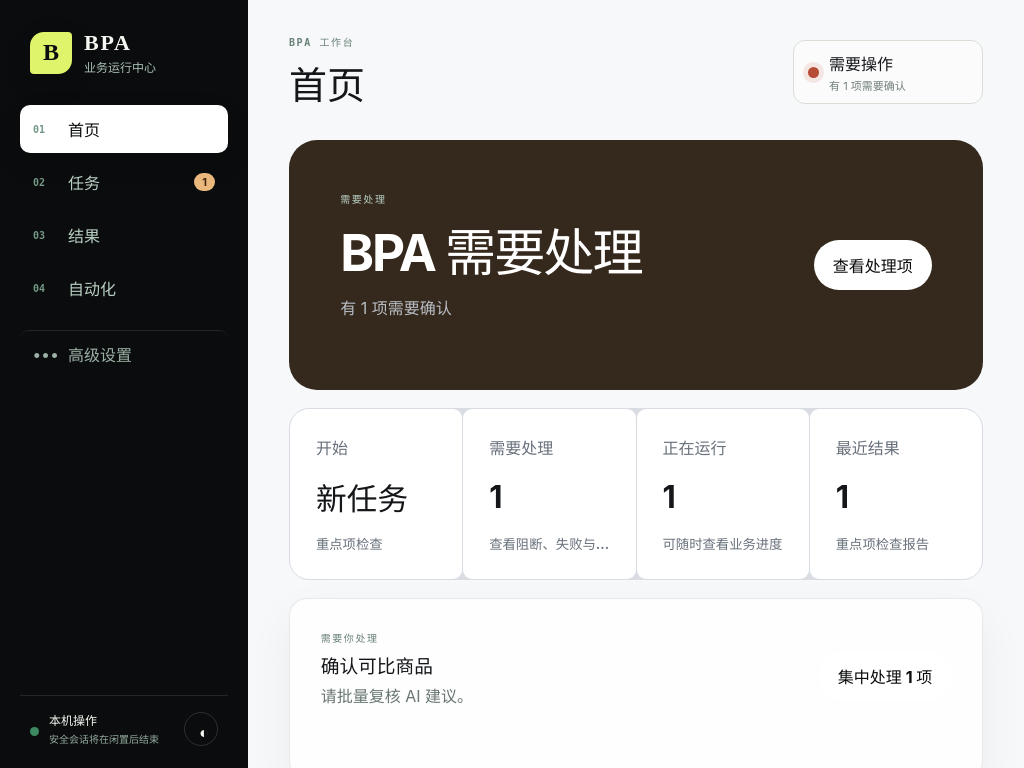
Test case: Operator Console › starts a workflow with an exact browser session binding
The width and height of the screenshot is (1024, 768).
Expected: the heading "BPA 需要处理" is shown, [340, 212, 642, 286]
Click the button "04 自动化" at (124, 288), box [20, 264, 228, 312]
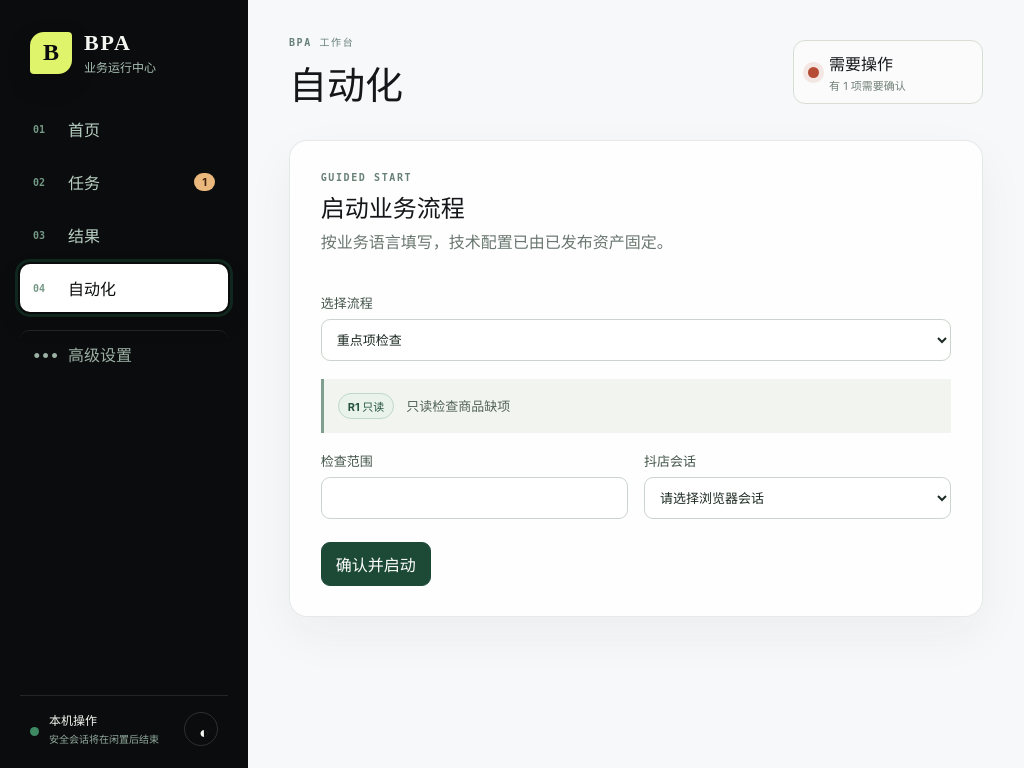
Type "全部在售商品" into the field labelled "检查范围" at (474, 498), box [321, 477, 628, 519]
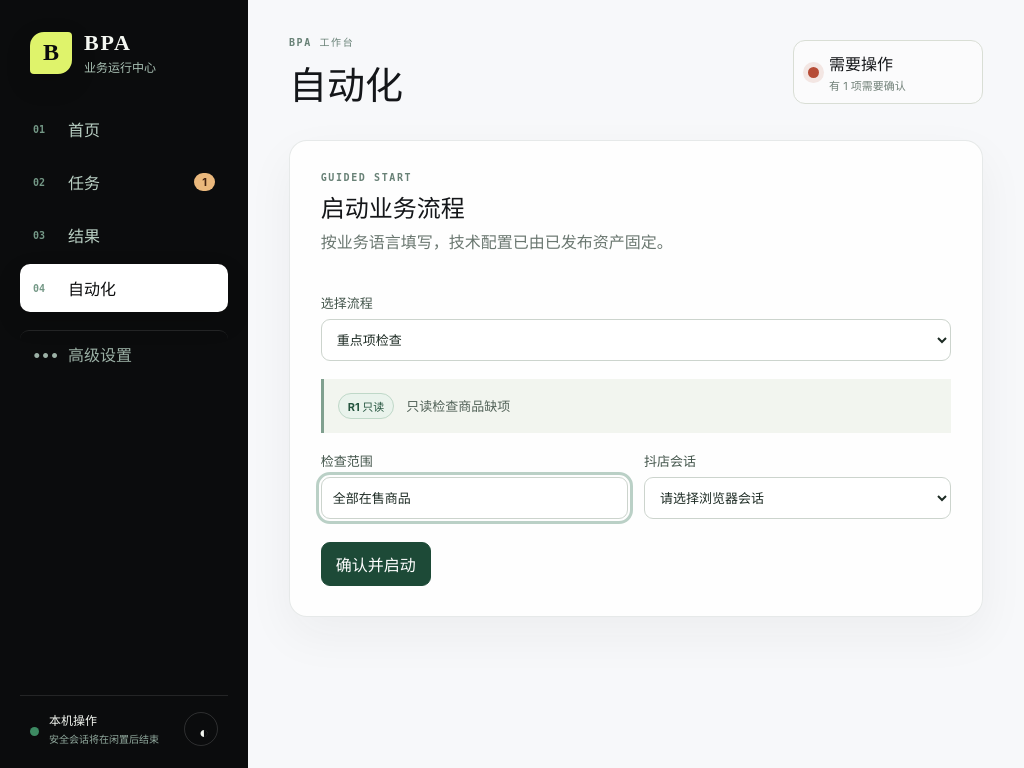
Select "抖店商品管理 · https://fxg.jinritemai.com" in the dropdown labelled "抖店会话" at (798, 498), box [644, 477, 951, 519]
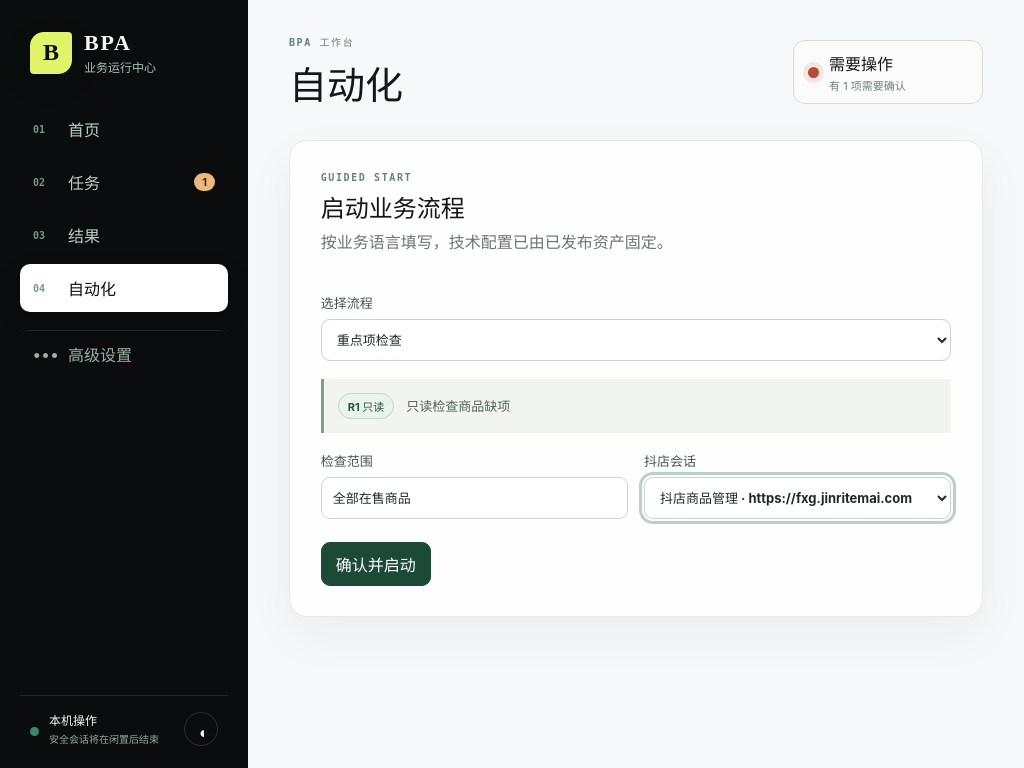
Click the button "确认并启动" at (376, 564), box [321, 542, 431, 586]
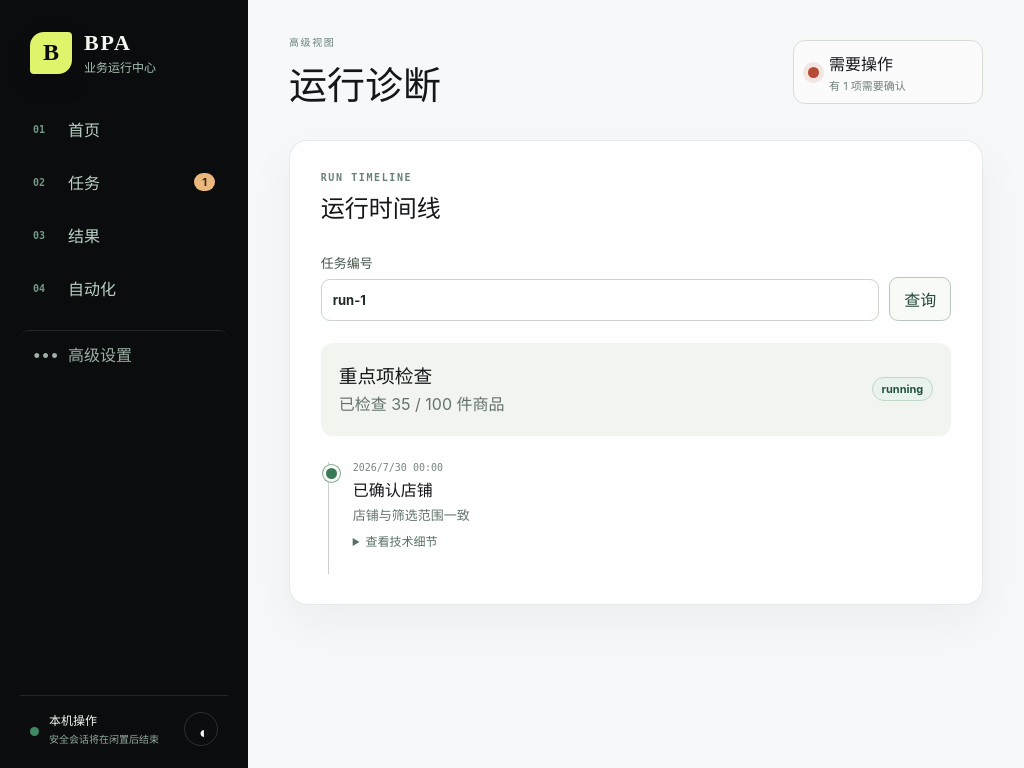
Expected: the text "已检查 35 / 100 件商品" is shown, [339, 391, 504, 415]
